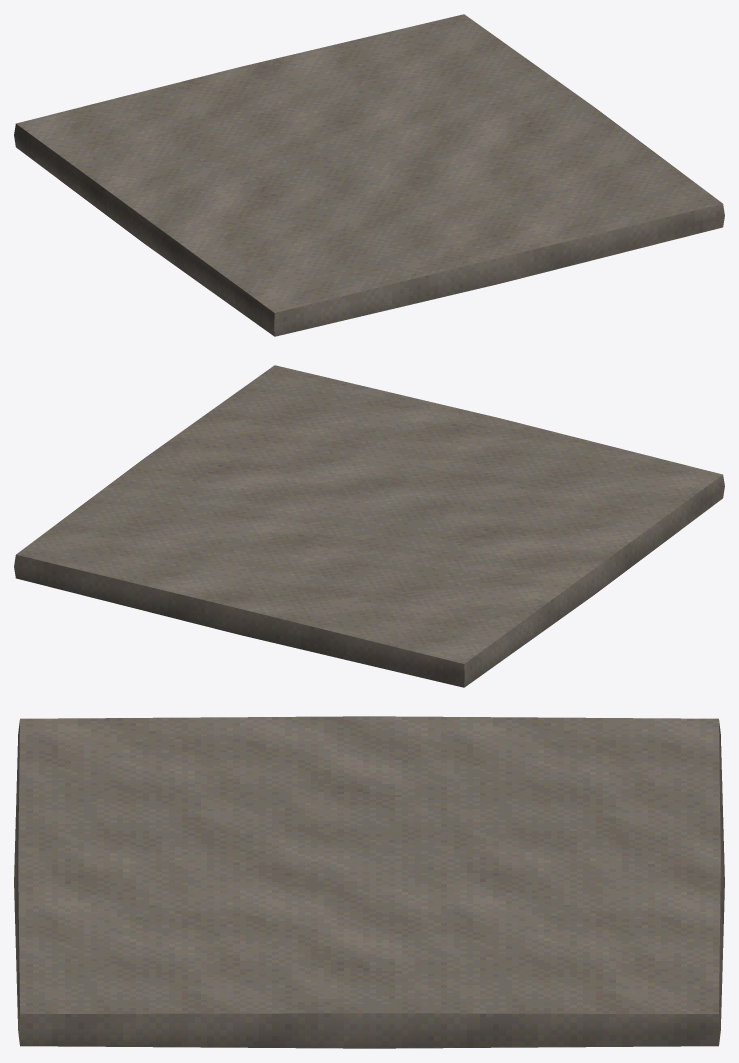
The model's file is cattree_platform_60.glb.
3 views of the same model, one above another, from view 1: azimuth 30°, elevation 25°; view 2: azimuth 150°, elevation 25°; view 3: azimuth 270°, elevation 25° (orthographic). The views are drawn at different scales.
Visible parts, largest first — view 1: board; view 2: board; view 3: board.
Boxes of the visible parts, <box> form: board: <box>14,14,724,336</box>; board: <box>14,365,724,687</box>; board: <box>14,716,724,1048</box>.
Bounding box in the file's own units: 0.6 × 0.04 × 0.6.
Materials: 1 (1 with a texture image).
